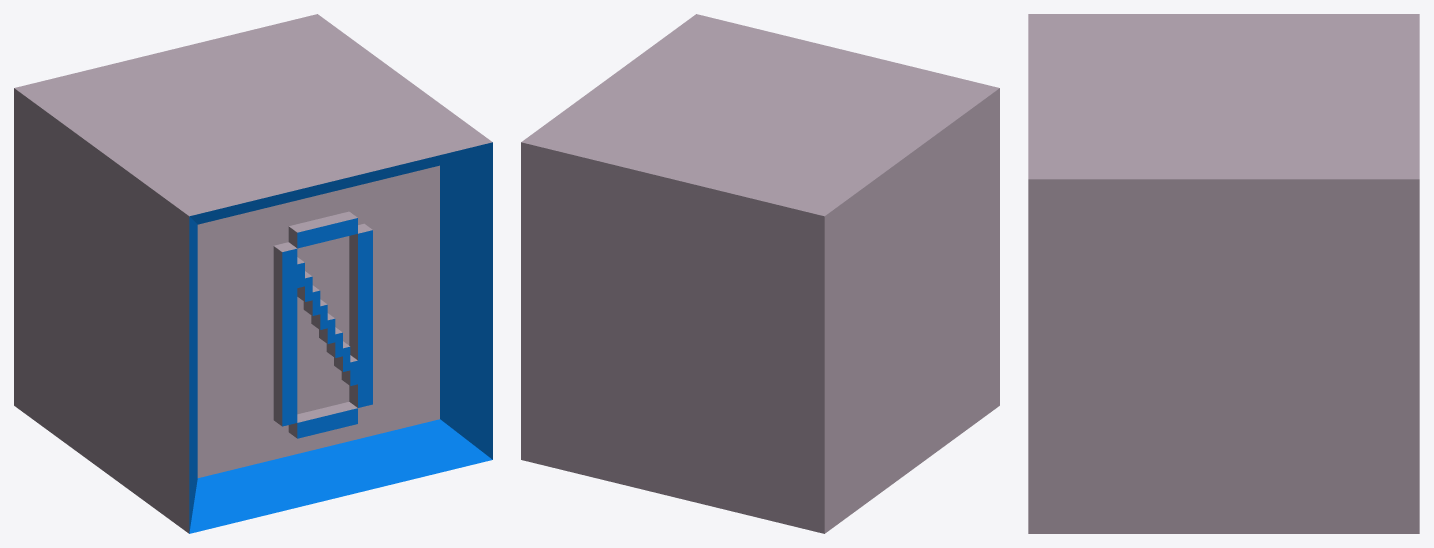
Rendered from Block0.fbx.
The picture shows the model from 3 angles, left to right: view 1: azimuth 30°, elevation 25°; view 2: azimuth 150°, elevation 25°; view 3: azimuth 270°, elevation 25°; orthographic projection. The views are drawn at different scales.
Visible parts, largest first — view 1: Cube; view 2: Cube; view 3: Cube.
Boxes of the visible parts, x1,y1,x2,y2 form: Cube: (14, 14, 492, 533); Cube: (521, 14, 999, 533); Cube: (1028, 14, 1419, 533).
Bounding box in the file's own units: 2000 × 2000 × 2000.
